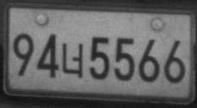4: (36, 33, 59, 78)
5: (113, 36, 135, 81), (89, 36, 110, 80)
6: (163, 39, 185, 84), (138, 38, 160, 82)
9: (12, 32, 34, 76)
너: (61, 42, 84, 78)
